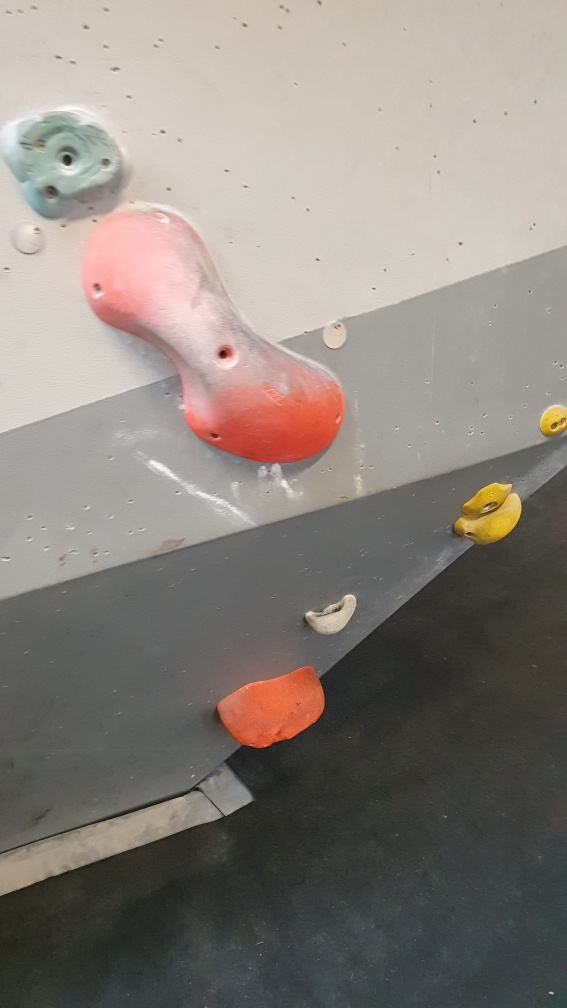Pinch: (86, 205, 342, 463)
